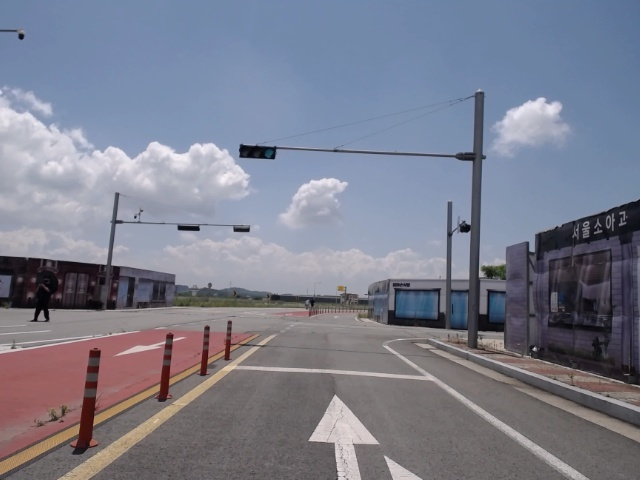green_3: (240, 146, 275, 159)
